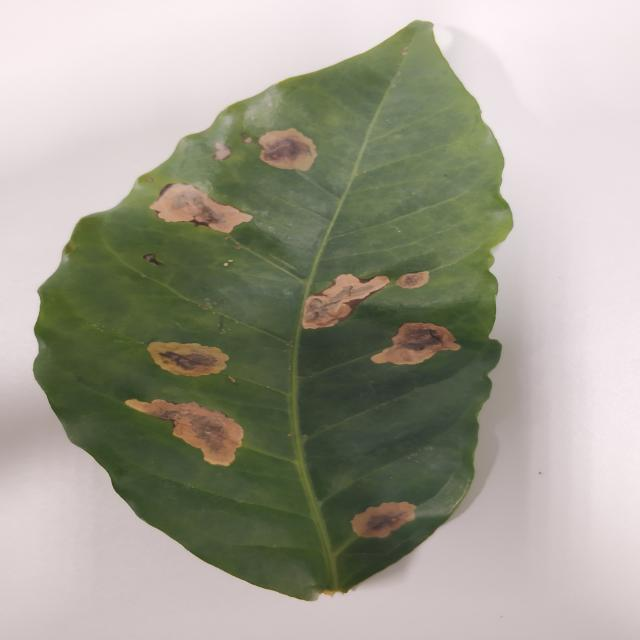Plaga-Minador: (31, 19, 515, 604)
